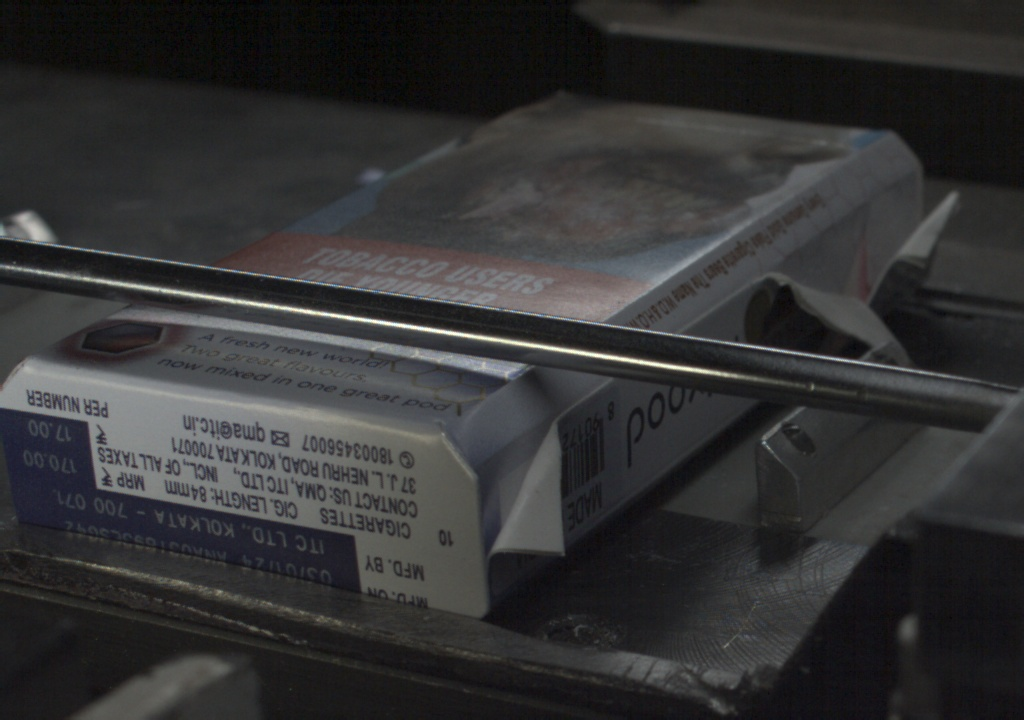g_bottom: (1, 365, 487, 622)
g_label: (10, 483, 359, 590)
g_lmiter: (691, 286, 746, 328)
ng_lmiter: (485, 409, 569, 566), (768, 269, 892, 353)
ng_miter: (872, 174, 963, 300)
price: (9, 416, 91, 483)
